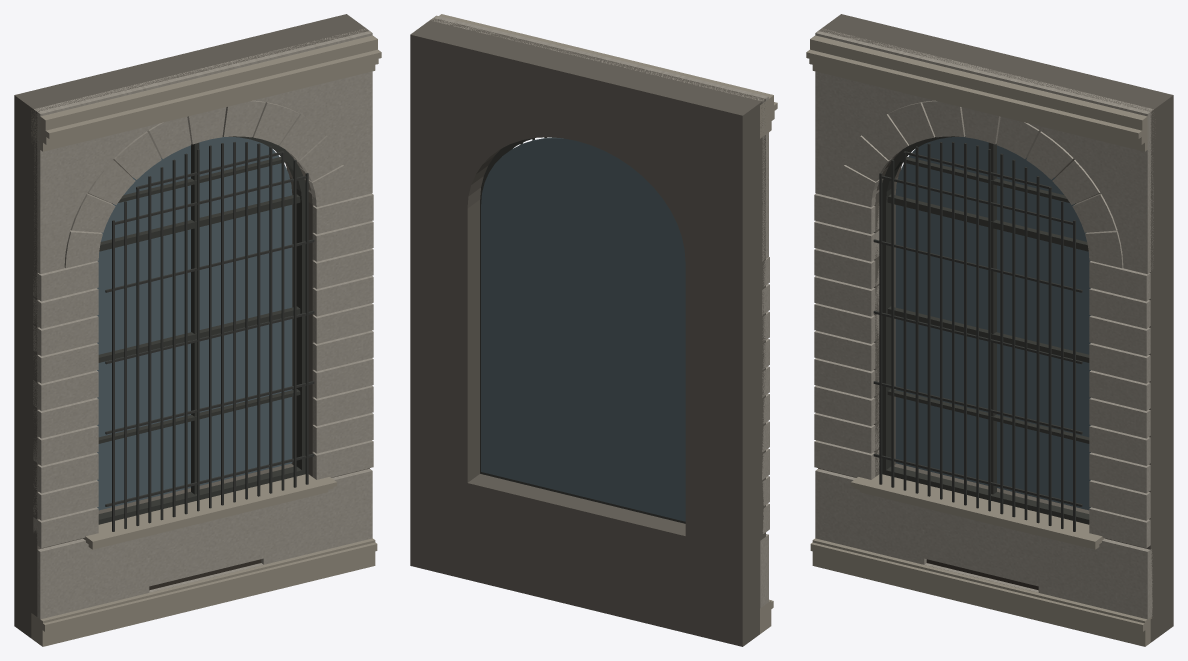
The model's file is huangpu-sanxin-company-street-arch-window-lod.glb.
The picture shows the model from 3 angles, left to right: view 1: azimuth 30°, elevation 25°; view 2: azimuth 150°, elevation 25°; view 3: azimuth 330°, elevation 25°; orthographic projection.
Parts seen in each view (by area): view 1: 中新公司大楼沿街石券窗与铁窗栅; view 2: 中新公司大楼沿街石券窗与铁窗栅; view 3: 中新公司大楼沿街石券窗与铁窗栅.
Part boxes in pixels (x1,y1,x2,y2): 中新公司大楼沿街石券窗与铁窗栅: (14,14,381,646); 中新公司大楼沿街石券窗与铁窗栅: (410,14,777,646); 中新公司大楼沿街石券窗与铁窗栅: (806,14,1173,646).
Bounding box in the file's own units: 3.02 × 4.61 × 0.55.
Materials: 7 (1 with a texture image).
